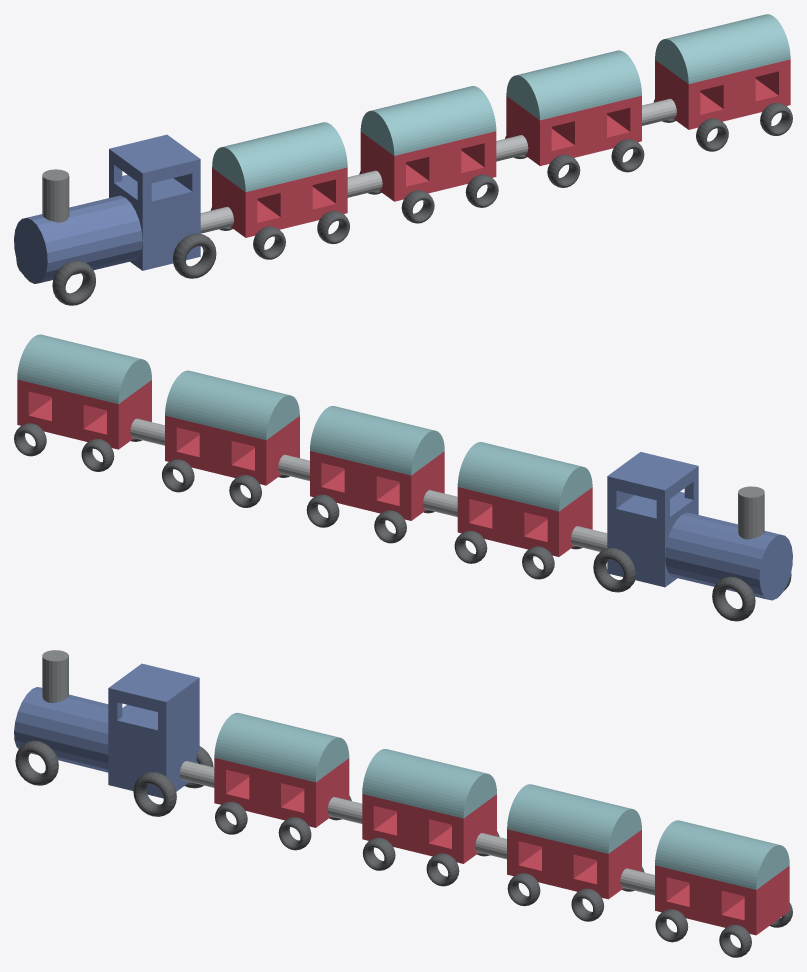
Rendered from Train.glb.
3 renders of one model, top to bottom at view 1: azimuth 30°, elevation 25°; view 2: azimuth 150°, elevation 25°; view 3: azimuth 330°, elevation 25°, orthographic.
Parts seen in each view (by area): view 1: Mesh_Mesh_head_geo.001_lambert2SG.001; view 2: Mesh_Mesh_head_geo.001_lambert2SG.001; view 3: Mesh_Mesh_head_geo.001_lambert2SG.001.
Boxes of the visible parts, x1,y1,x2,y2 form: Mesh_Mesh_head_geo.001_lambert2SG.001: (14,14,792,305); Mesh_Mesh_head_geo.001_lambert2SG.001: (14,334,792,621); Mesh_Mesh_head_geo.001_lambert2SG.001: (14,650,792,957).
Bounding box in the file's own units: 256 × 38.5 × 30.
